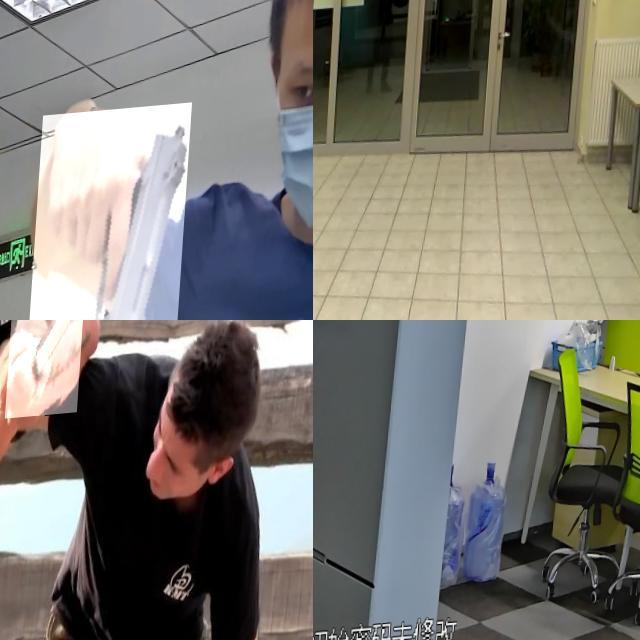-: (8, 320, 88, 423)
gun-knife-thesis - v11 Yolov5 augmented: (28, 108, 195, 320), (313, 320, 334, 403), (313, 17, 330, 80)
